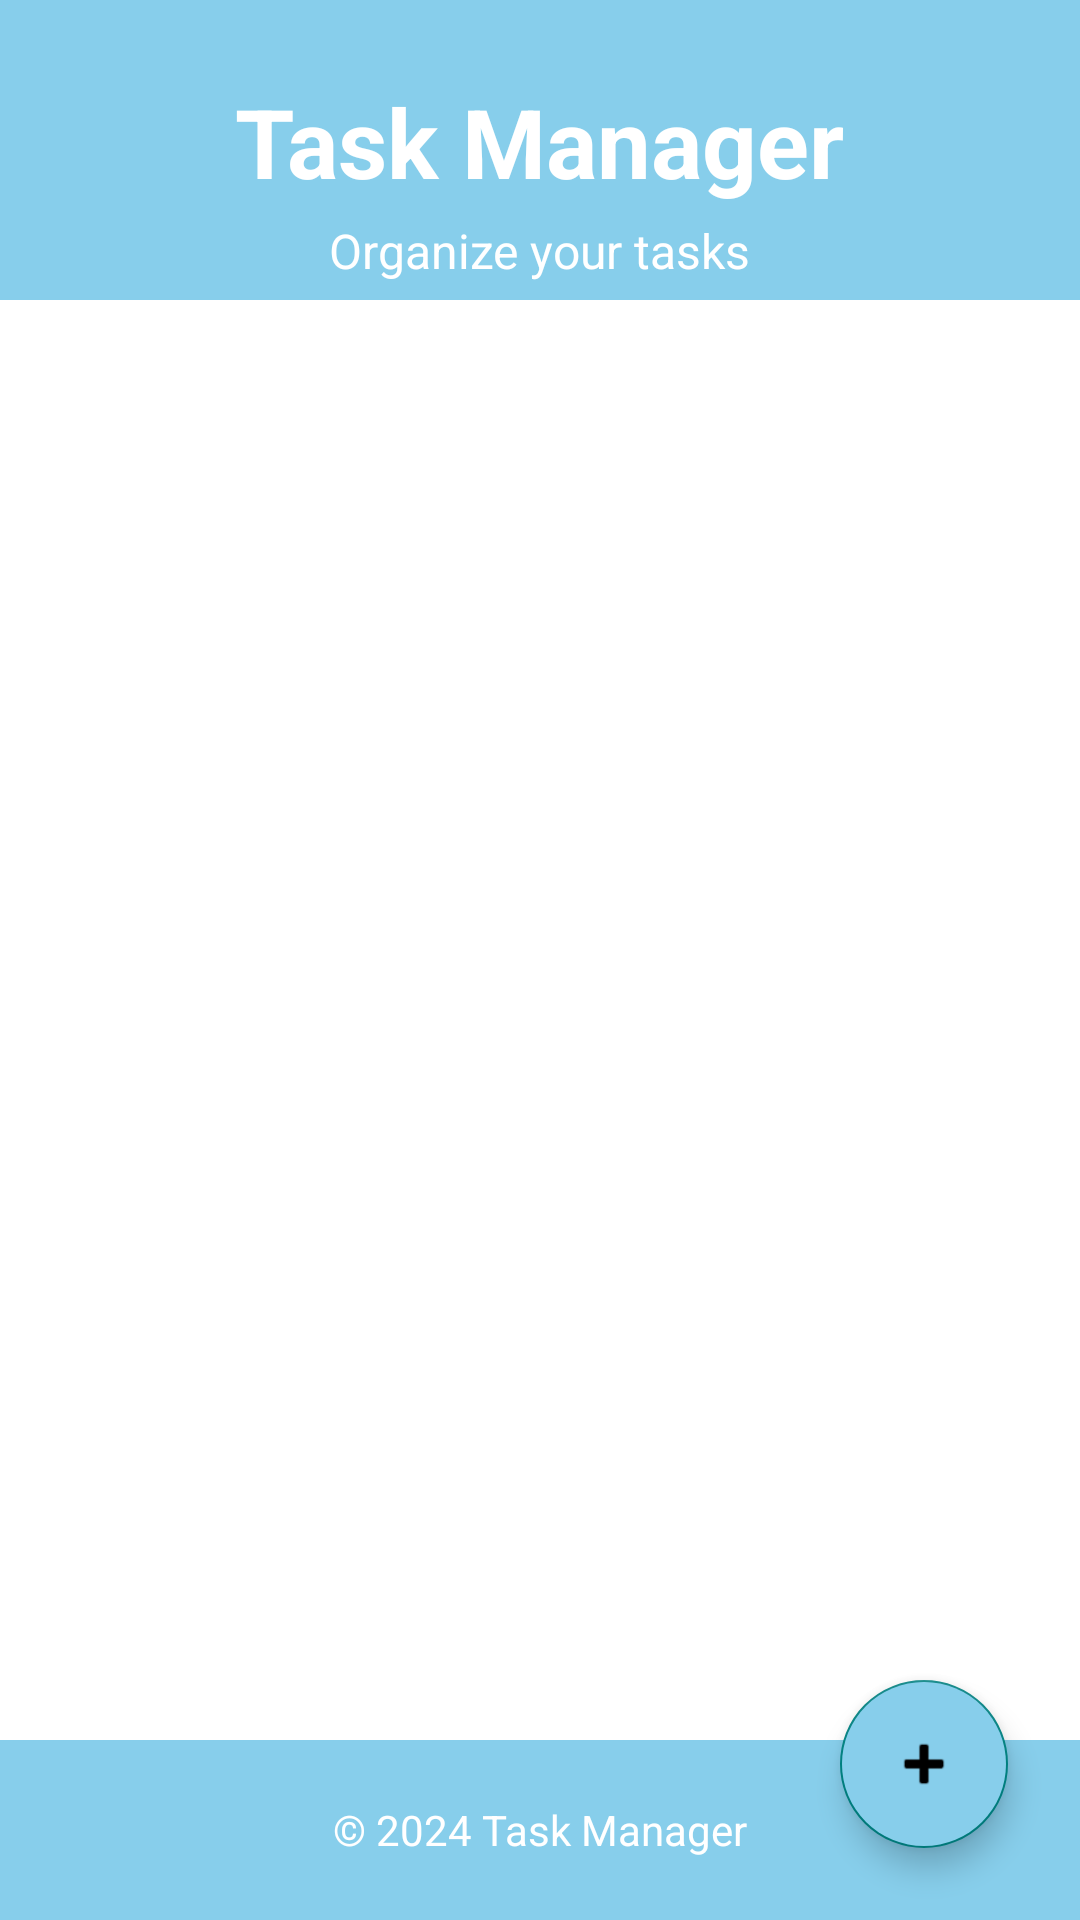

Where to tap for icons on this 1080*1920 app screen, as point (x, y):
New Task: point (924, 1764)
